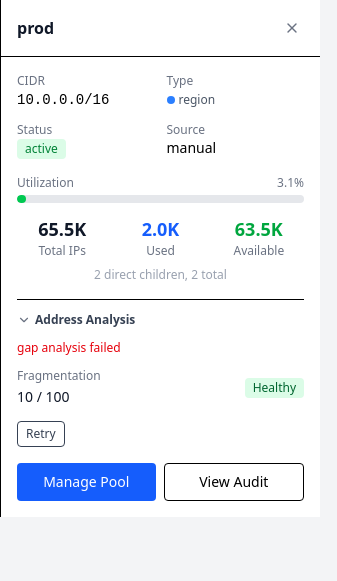
Test case: PoolDetailPanel address analysis › shows a gaps error and retries the request
Check: the text "gap analysis failed" is shown, box [17,339,121,356]
Check: the text "10 / 100" is shown, box [17,387,70,406]
Click the button "Retry" at [41, 434], box [17,421,65,447]
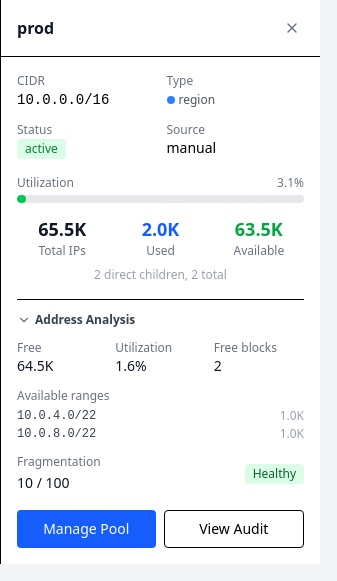
Check: the number of elements with test id "available-range" is 2, box [17,408,96,424]; [17,426,96,442]
Check: the text "gap analysis failed" is gone
